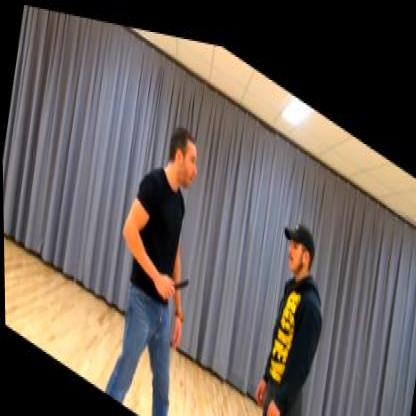knife: (158, 250, 190, 305)
